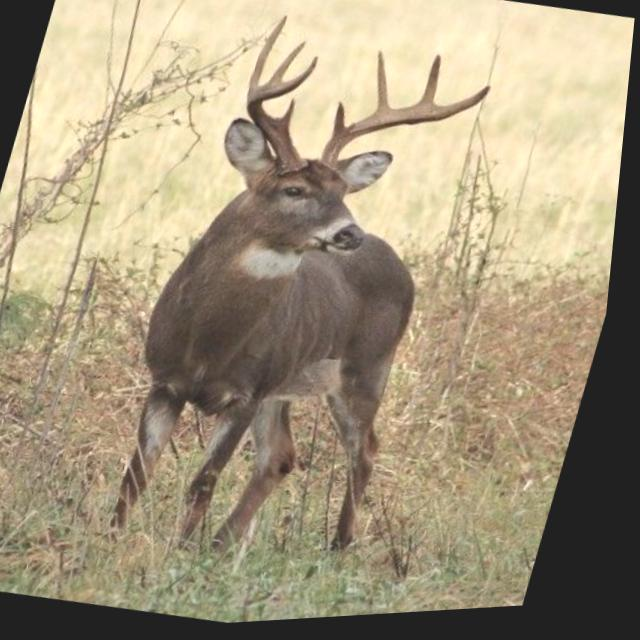L-F: (323, 91, 494, 178)
L-G1: (334, 105, 349, 142)
L-G2: (377, 55, 393, 118)
L-G3: (419, 58, 444, 111)
R-F: (248, 60, 321, 180)
R-G1: (281, 100, 300, 136)
R-G2: (250, 17, 289, 94)
R-G3: (266, 44, 308, 89)
